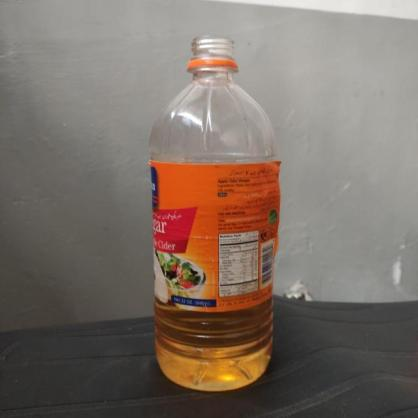bottle: (147, 29, 283, 393)
label: (151, 160, 274, 308)
